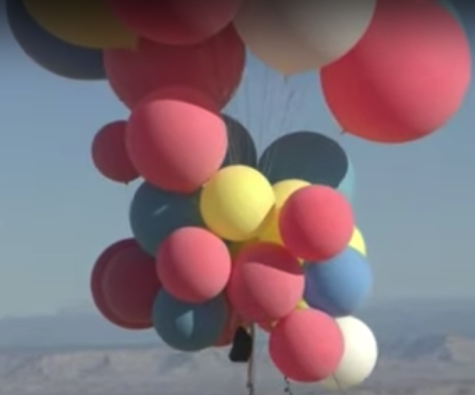Balloon: (320, 1, 470, 143), (126, 86, 228, 194), (228, 240, 305, 319), (156, 226, 233, 302), (201, 164, 275, 241), (268, 309, 344, 383), (278, 185, 354, 258), (303, 248, 372, 315)
